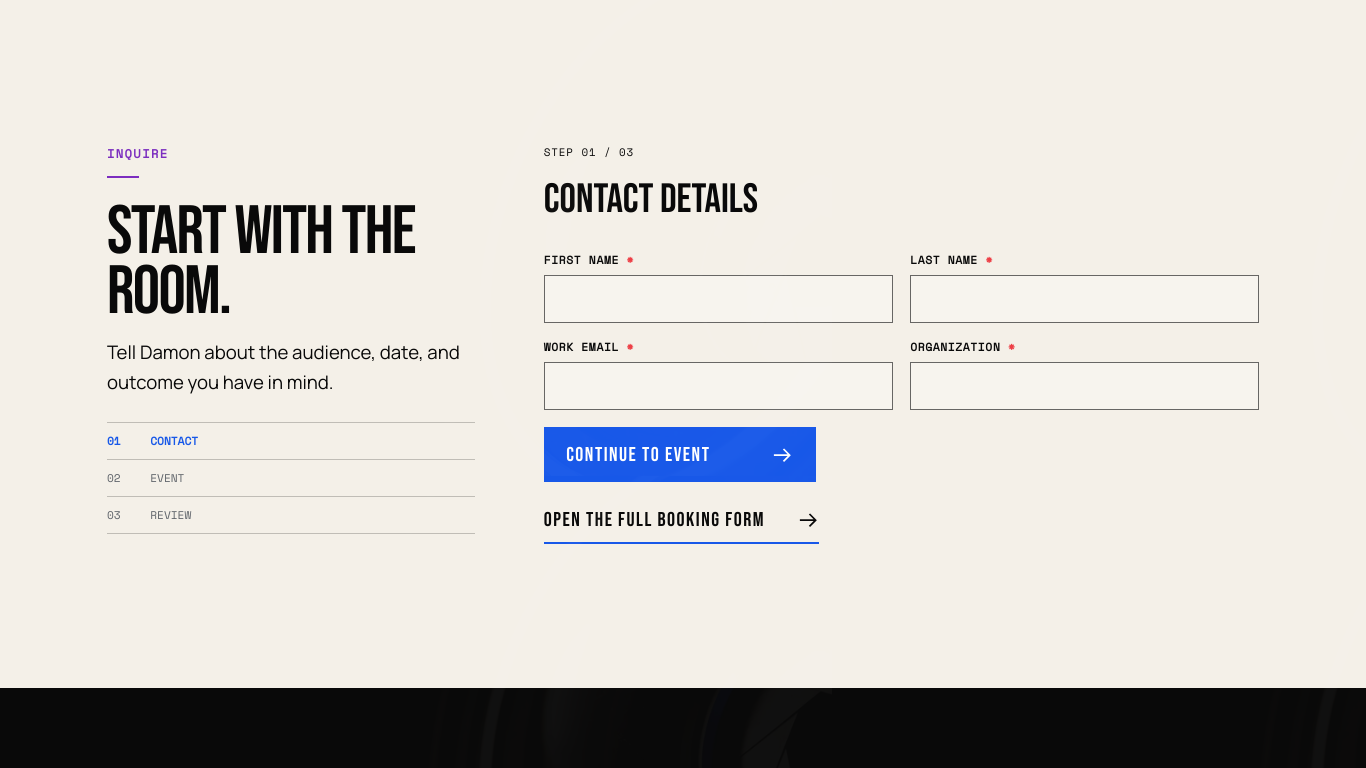
Test: homepage inquiry form › starts on Contact and validates only contact fields
This screenshot has width=1366, height=768.
Expected: the heading "Contact details" is shown, [544,175,758,224]
Step 1. Click the button "Continue to Event" → x=680, y=455, box [544,427,816,482]
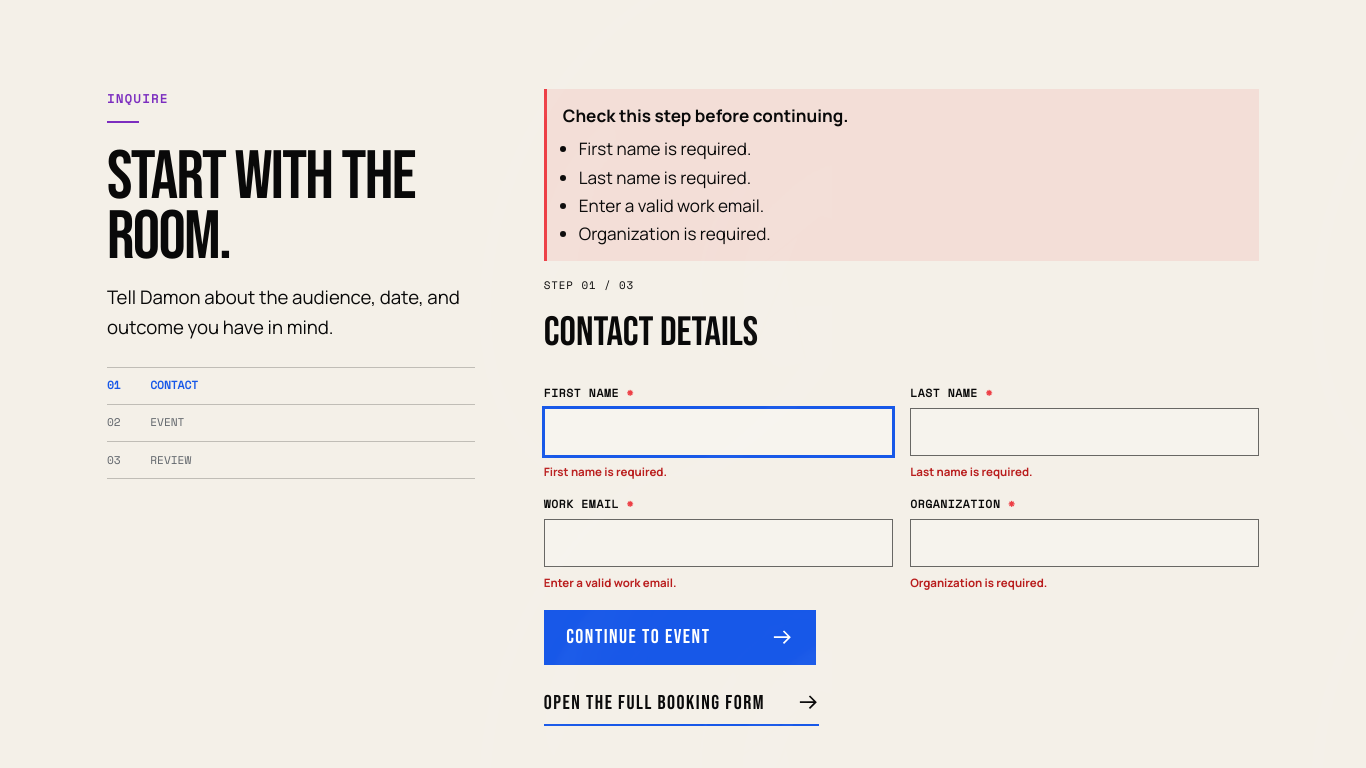
Expected: the list item "First name is required." is shown, [579,137,751,160]
Expected: the message named "validation summary" is shown, [544,89,1259,261]
